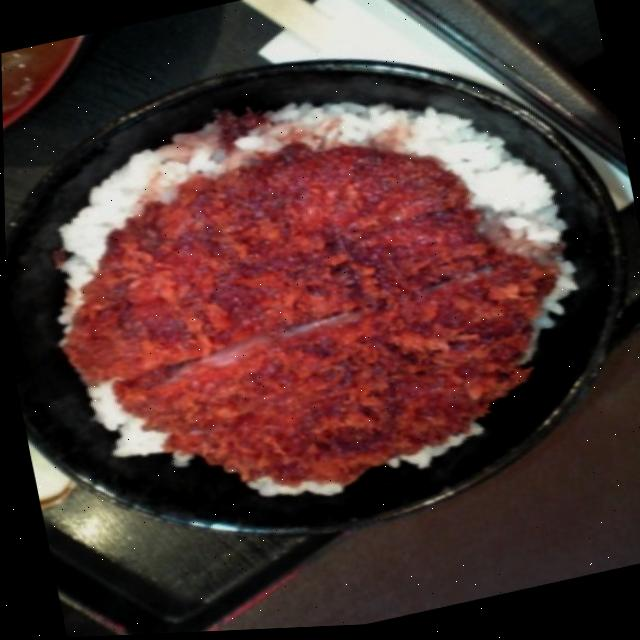汤锅炖物: (1, 28, 128, 151)
